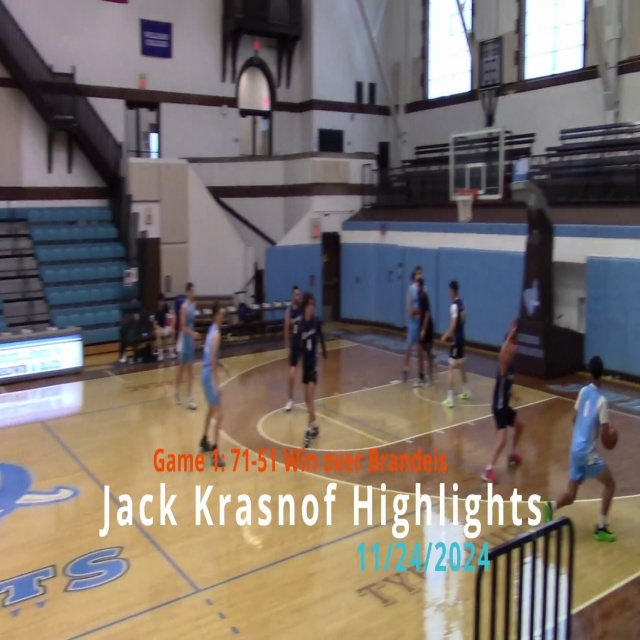Basketball: (600, 424, 618, 449)
